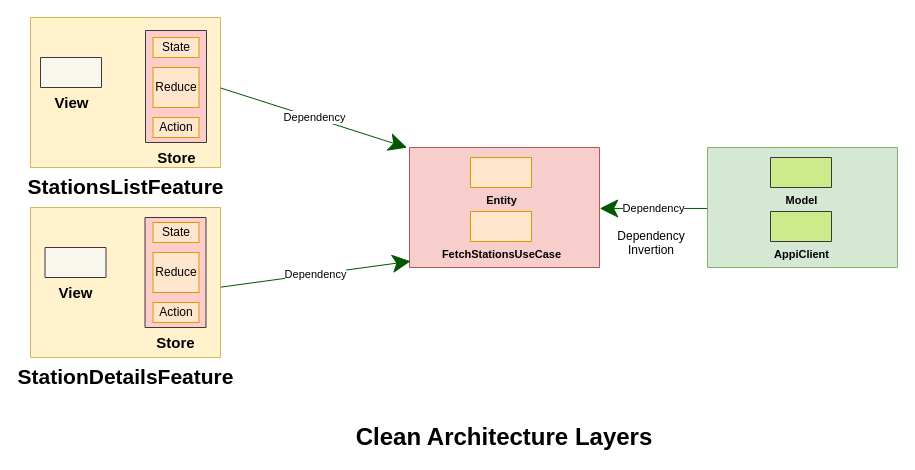
This 915x470 diagram has some shape labels left out. The shapes that lost their labels are listed below. From the top down, each one's box as (x1, y1, x2, y2) in pixels, then its label:
(408, 146, 600, 268): Domain
(706, 146, 898, 268): Data
